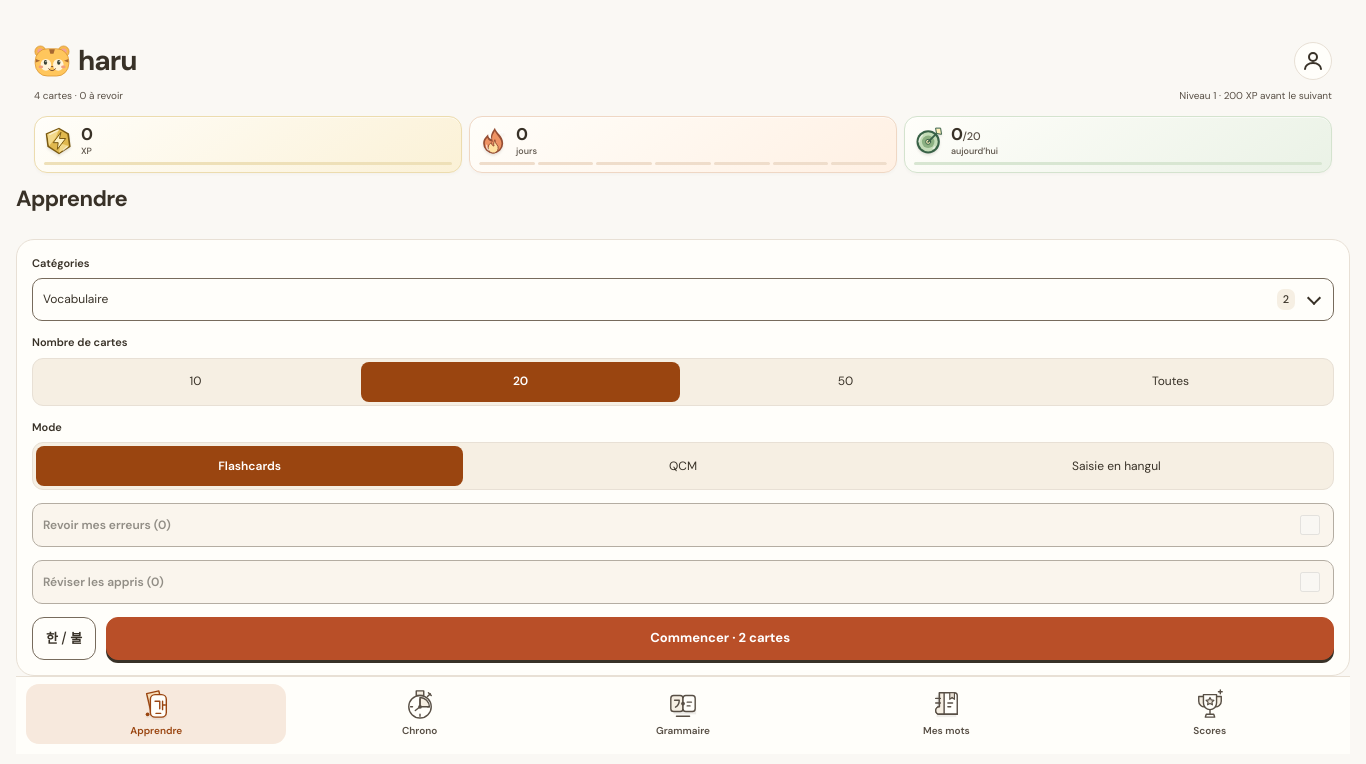
Test case: dynamic book filter › hides an unavailable catalogue and ignores its saved filter
Click the button "Mes mots" at (946, 714), box [816,684,1077,744]
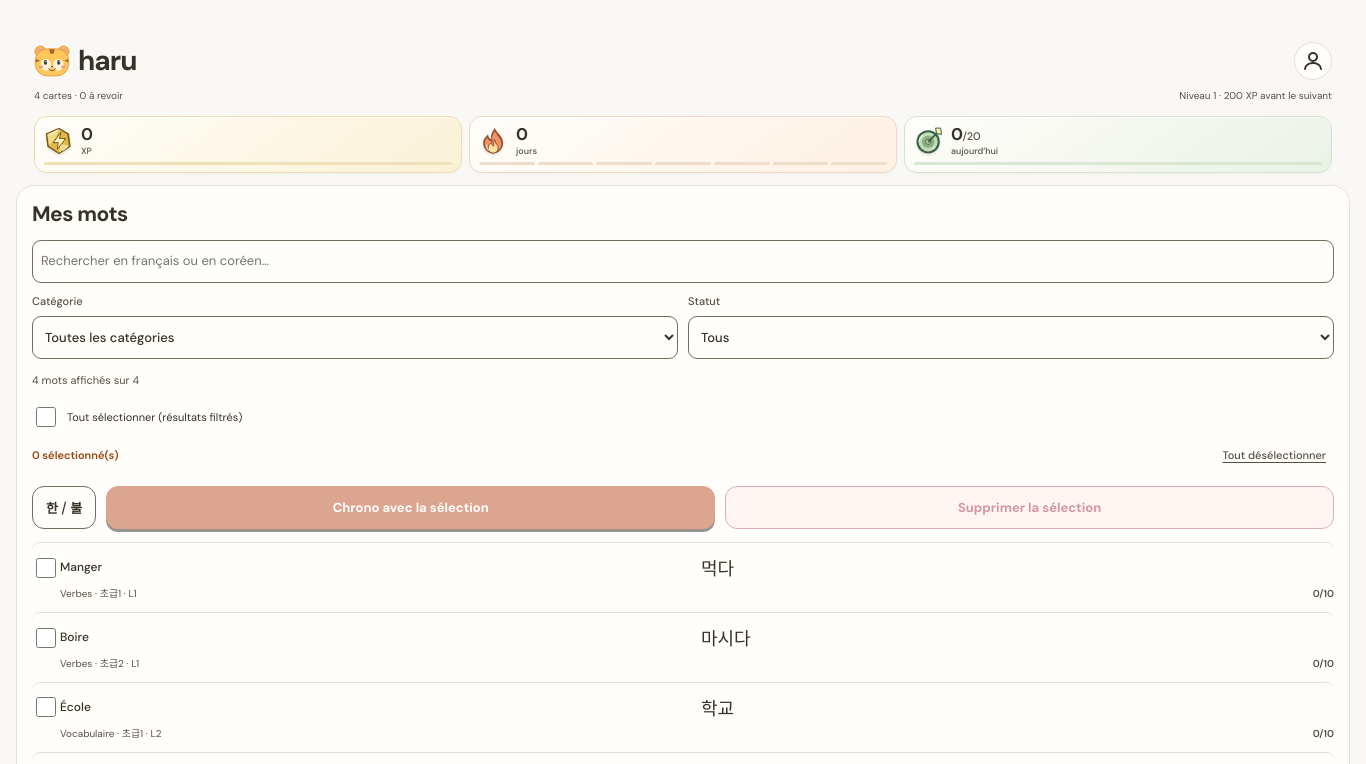
Expected: the text "4 mots affichés sur 4" is shown, [32,373,139,387]
